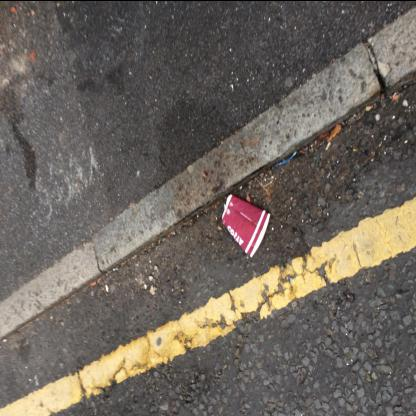karton: (220, 194, 270, 258)
